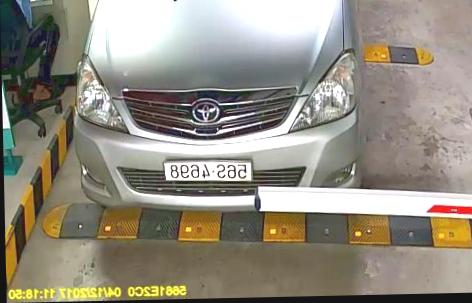License_Plate: (163, 156, 253, 185)
